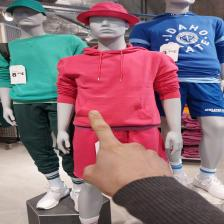one: (78, 107, 180, 193)
